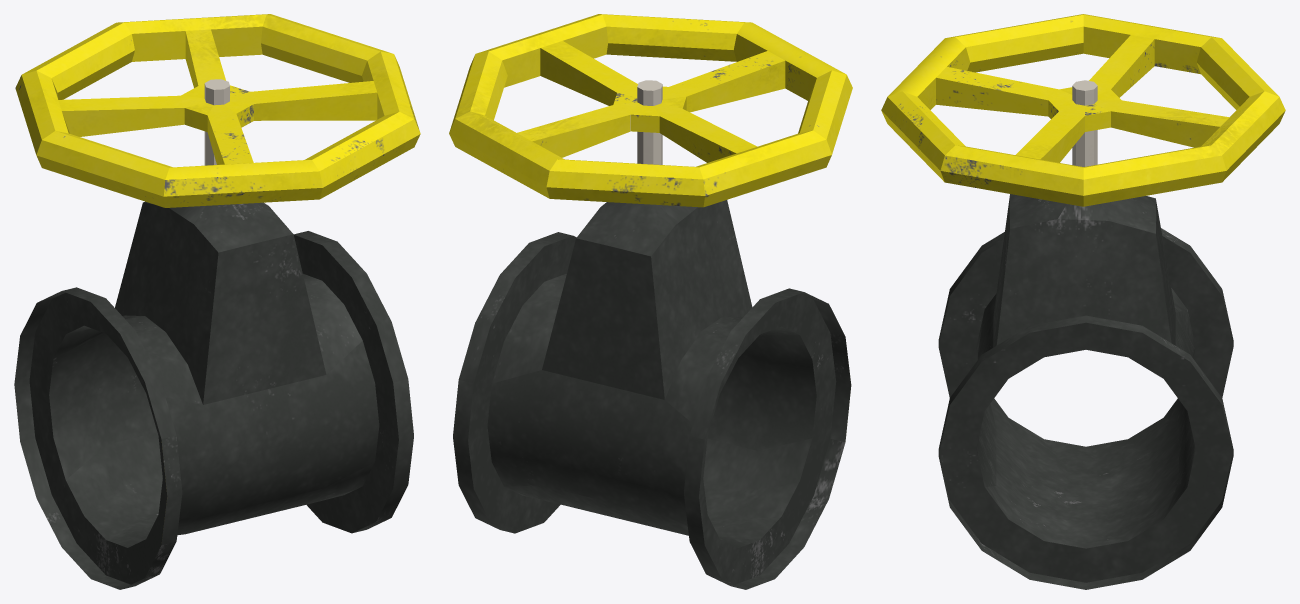
Rendered from pipeValveBig.fbx.
The picture shows the model from 3 angles, left to right: view 1: azimuth 30°, elevation 25°; view 2: azimuth 150°, elevation 25°; view 3: azimuth 270°, elevation 25°; orthographic projection. The views are drawn at different scales.
Parts seen in each view (by area): view 1: pipeValveBig; view 2: pipeValveBig; view 3: pipeValveBig.
Boxes of the visible parts, x1,y1,x2,y2 form: pipeValveBig: (14,14,420,589); pipeValveBig: (449,14,852,589); pipeValveBig: (881,14,1285,589).
Size of the model in its own units: 0.88 by 1.07 by 0.88.
